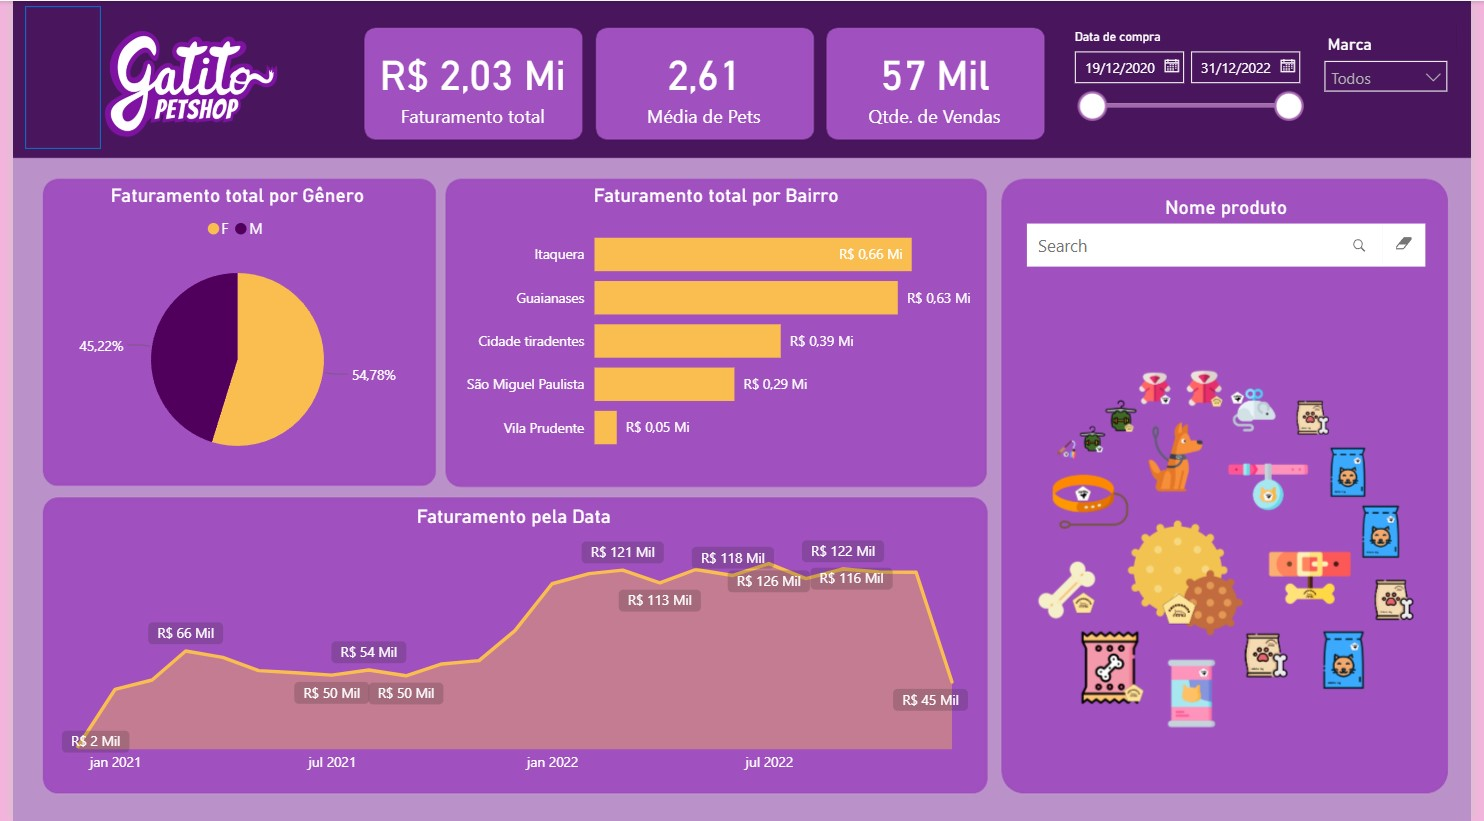

This screenshot's page, from the dashboard's own definition file:
{"tool":"powerbi","page":{"name":"Página 1","canvas":[1280,720],"ordinal":0},"visuals":[{"type":"card","fields":{"Values":["Avg(Clientes.Pets)"]},"box":[501.3,25,210.5,96.3],"z":0},{"type":"card","fields":{"Values":["Sum(Vendas.Quantidade)"]},"box":[721.6,22.3,174.8,101.7],"z":1000},{"type":"card","fields":{"Values":["Vendas.Faturamento total"]},"box":[306.8,25,194.5,96.3],"z":2000},{"type":"pieChart","fields":{"Category":["Clientes.Gênero"],"Y":["Vendas.Faturamento total"]},"box":[28.5,160.6,336.3,260.5],"z":3000},{"type":"clusteredBarChart","fields":{"Category":["Clientes.Bairro"],"Y":["Vendas.Faturamento total"]},"box":[384.4,160.6,465.6,249.8],"z":4000},{"type":"areaChart","title":"Faturamento pela Data","fields":{"Category":["Vendas.Data de compra.Variation.Hierarquia de datas.Ano","Vendas.Data de compra.Variation.Hierarquia de datas.Trimestre","Vendas.Data de compra.Variation.Hierarquia de datas.Mês","Vendas.Data de compra.Variation.Hierarquia de datas.Dia"],"Y":["Vendas.Faturamento total"]},"box":[28.5,442.4,821.5,244.4],"z":5000},{"type":"ImageGrid_FC5183B9_926C_45E0_B5F7_0CE9EAF1DA9B","fields":{"ImageURL":["Produtos.Url img"]},"box":[873.3,265.8,383.6,429.9],"z":6000},{"type":"textFilter25A4896A83E0487089E2B90C9AE57C8A","fields":{"field":["Produtos.Nome produto"]},"box":[884.9,171.3,360.4,67.8],"z":7000},{"type":"slicer","fields":{"Values":["Produtos.Marca"]},"box":[1141.7,25,128.4,100.8],"z":8000},{"type":"slicer","fields":{"Values":["Vendas.Data de compra"]},"box":[919.6,20.5,222.1,105.3],"z":9000},{"type":"shape","box":[10.5,4.4,66.7,125.6],"z":10000}]}

Visuals, with their boxes in screenshot pixels (x1, y1, x2, y2), scaled from the page's 1280x720 canvas onto the 1484x821 screenshot:
card - Avg(Clientes.Pets): pyautogui.locateOnScreen(581, 29, 825, 138)
card - Sum(Vendas.Quantidade): pyautogui.locateOnScreen(837, 25, 1039, 141)
card - Vendas.Faturamento total: pyautogui.locateOnScreen(356, 29, 581, 138)
pieChart - Clientes.Gênero x Vendas.Faturamento total: pyautogui.locateOnScreen(33, 183, 423, 480)
clusteredBarChart - Clientes.Bairro x Vendas.Faturamento total: pyautogui.locateOnScreen(446, 183, 985, 468)
"Faturamento pela Data" areaChart: pyautogui.locateOnScreen(33, 504, 985, 783)
ImageGrid_FC5183B9_926C_45E0_B5F7_0CE9EAF1DA9B - Produtos.Url img: pyautogui.locateOnScreen(1012, 303, 1457, 793)
textFilter25A4896A83E0487089E2B90C9AE57C8A - Produtos.Nome produto: pyautogui.locateOnScreen(1026, 195, 1444, 273)
slicer - Produtos.Marca: pyautogui.locateOnScreen(1324, 29, 1473, 143)
slicer - Vendas.Data de compra: pyautogui.locateOnScreen(1066, 23, 1324, 143)
shape: pyautogui.locateOnScreen(12, 5, 90, 148)
